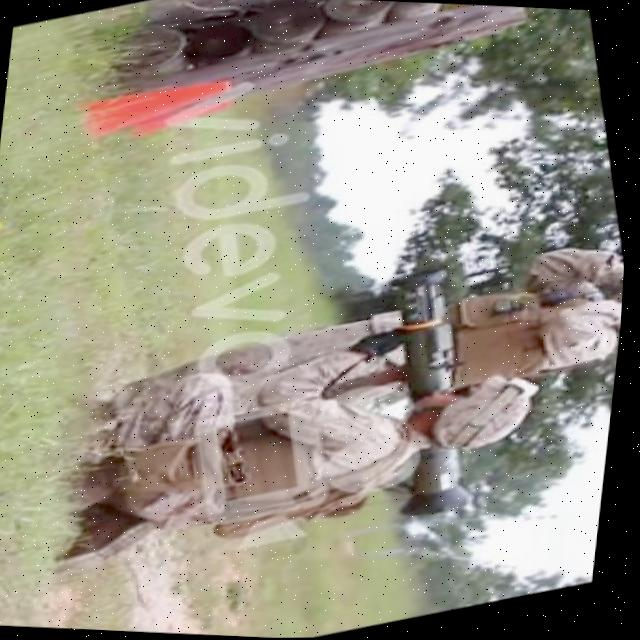rocket: (353, 262, 508, 525)
